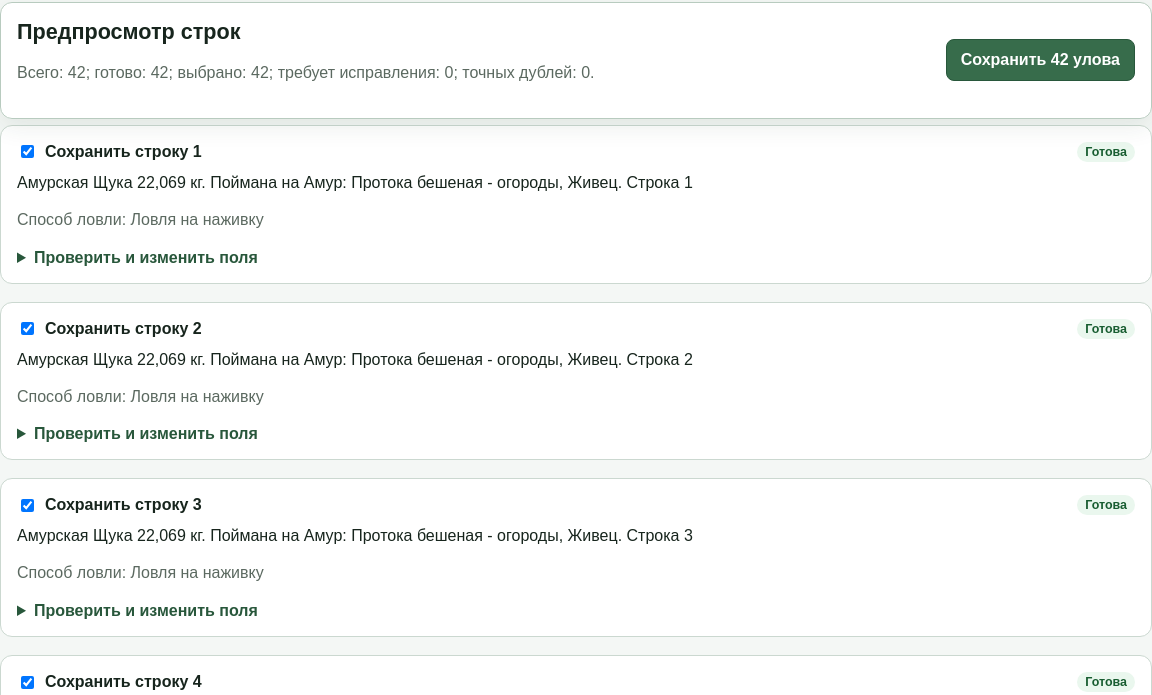
Test: CatchReport batch runtime hydration › keeps 42 canonical drafts ready and mounts shared editors only on demand
Click the 1st heading "Проверить и изменить поля" at coordinates (146, 257), box [34,249,258,266]
(page scrolled)
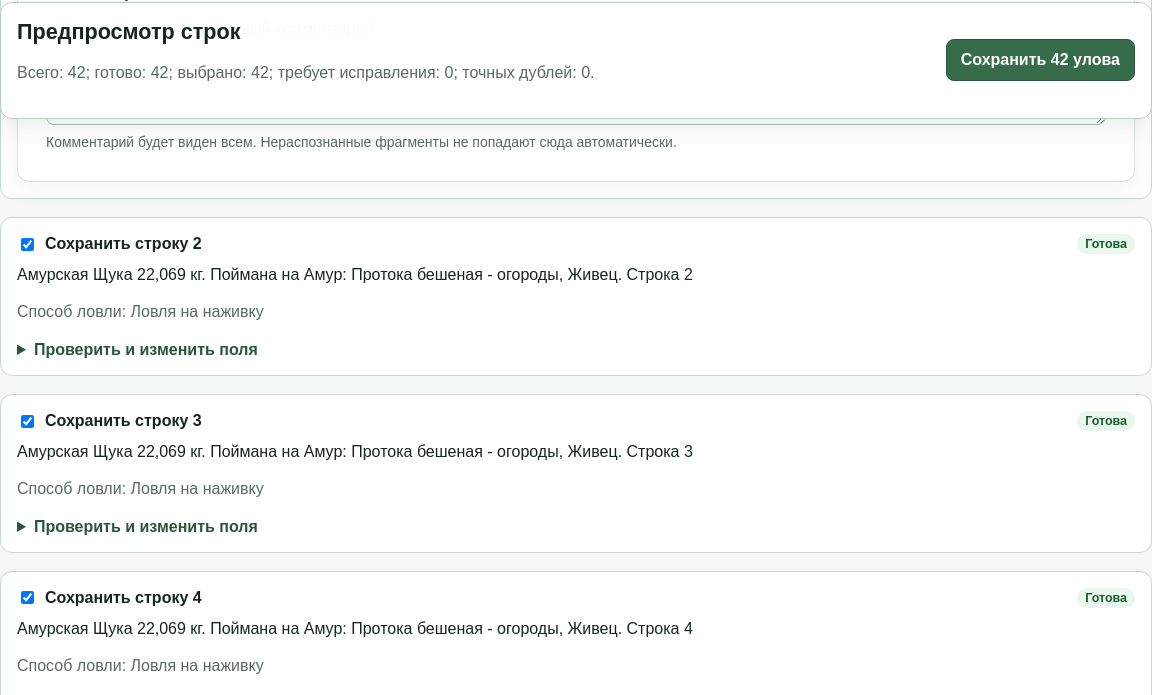
Click the 1st heading "Проверить и изменить поля" at coordinates (146, 350), box [34,341,258,358]
(page scrolled)
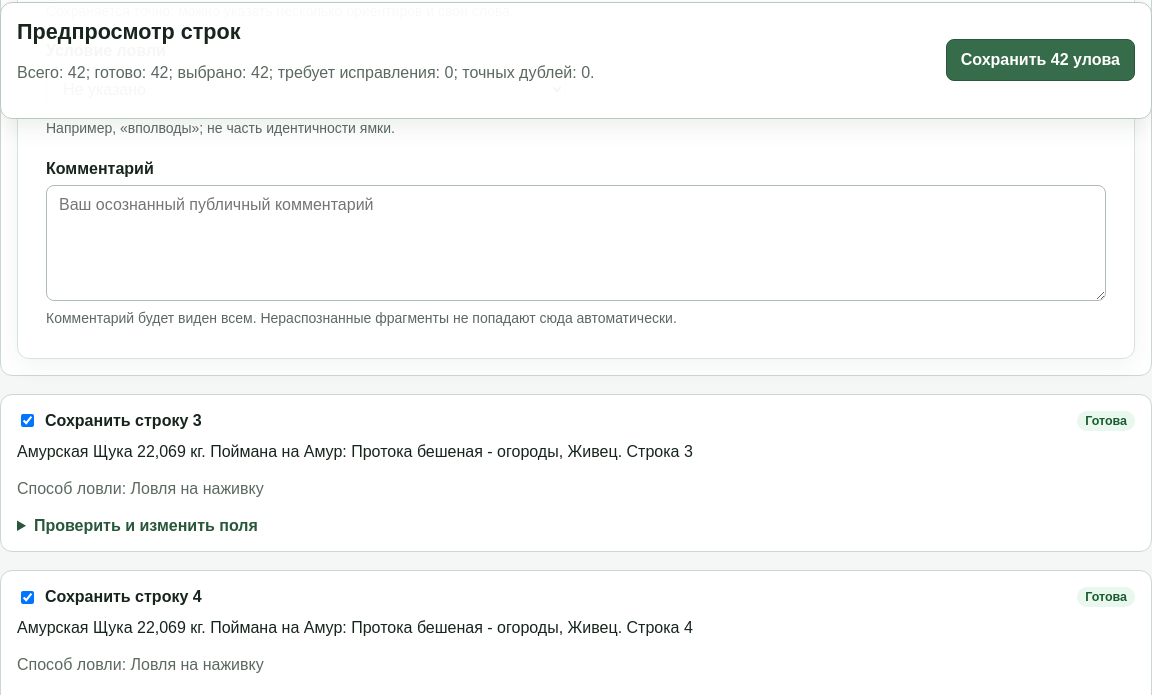
Click the button "Сохранить 42 улова" at coordinates (1040, 60), box [946,39,1135,81]
(page scrolled)
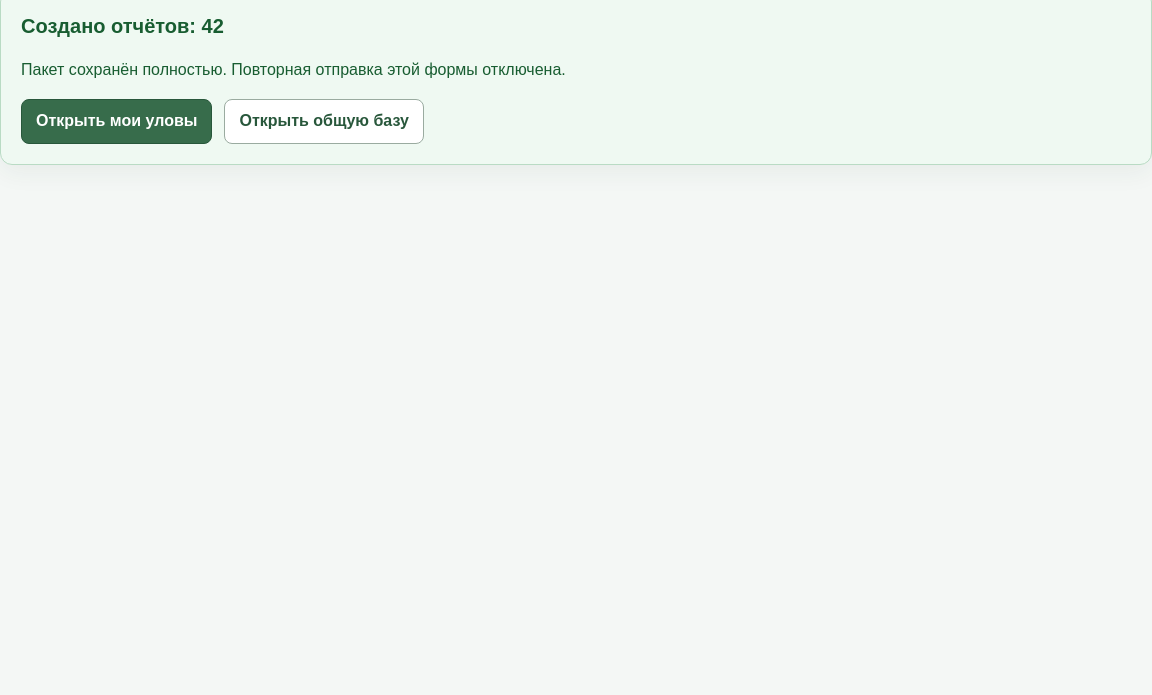
Check: the heading "Создано отчётов: 42" is shown, box [21,15,224,37]
